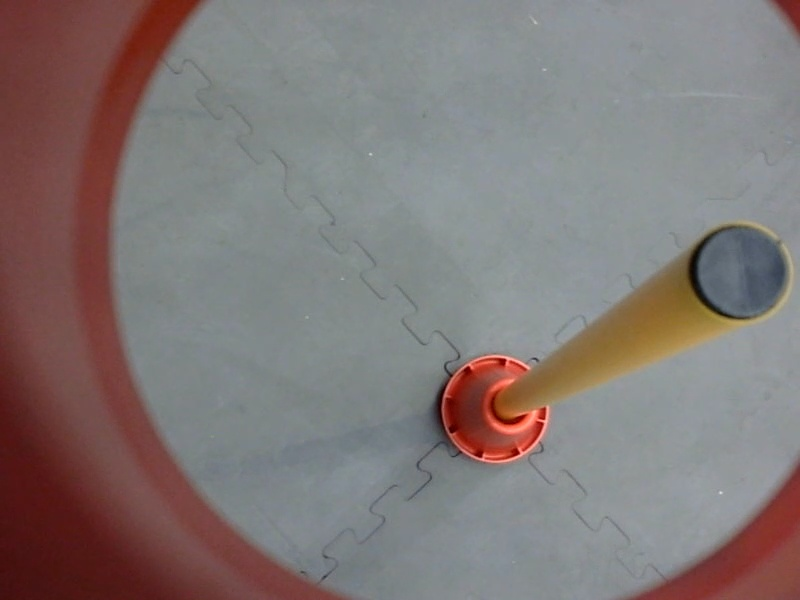tip: (685, 215, 800, 335)
